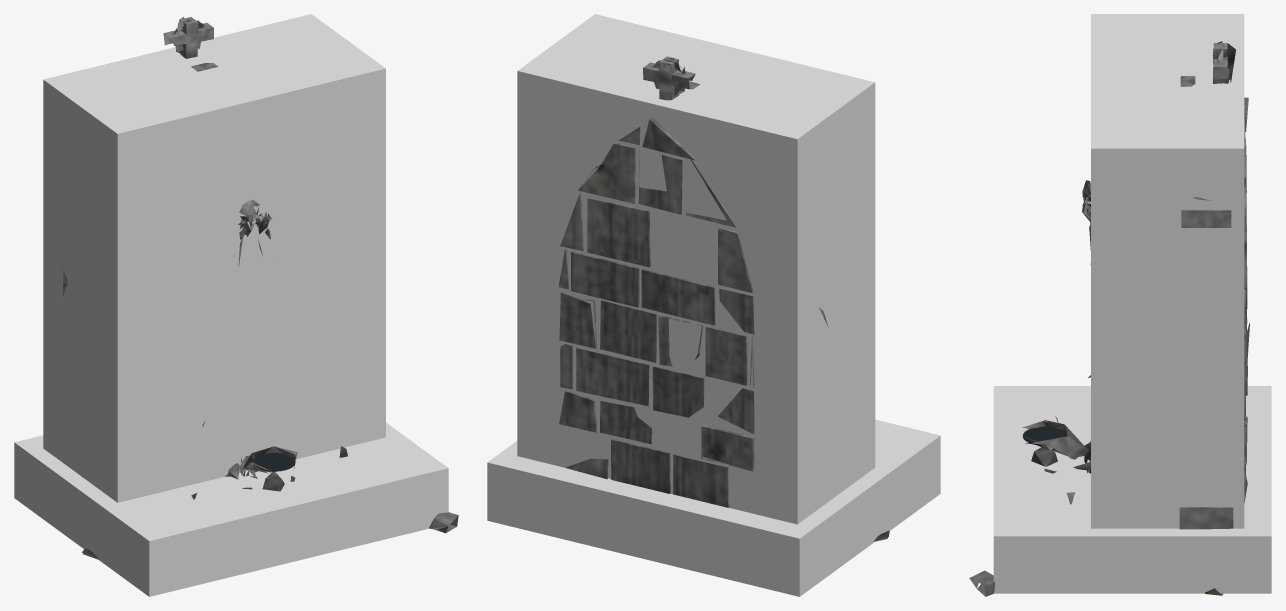
Rendered from shrine_weeping_angel_lite.glb.
3 renders of one model, left to right at view 1: azimuth 30°, elevation 25°; view 2: azimuth 150°, elevation 25°; view 3: azimuth 270°, elevation 25°, orthographic. The views are drawn at different scales.
Parts seen in each view (by area): view 1: col_shrine_niche, col_shrine_plinth, shrine_body, water_basin; view 2: col_shrine_niche, shrine_body, col_shrine_plinth; view 3: col_shrine_niche, col_shrine_plinth, shrine_body, water_basin.
Part boxes in pixels (<box>): col_shrine_niche: <box>43,14,385,502</box>; col_shrine_plinth: <box>14,422,448,596</box>; shrine_body: <box>62,17,458,559</box>; water_basin: <box>253,453,295,471</box>; col_shrine_niche: <box>517,14,875,524</box>; shrine_body: <box>558,56,889,541</box>; col_shrine_plinth: <box>487,419,940,596</box>; col_shrine_niche: <box>1091,14,1244,528</box>; col_shrine_plinth: <box>993,386,1271,593</box>; shrine_body: <box>969,41,1249,596</box>; water_basin: <box>1022,426,1066,445</box>.
Size of the model in its own units: 1.83 by 2.64 by 1.48.
3 materials, 2 textured.
